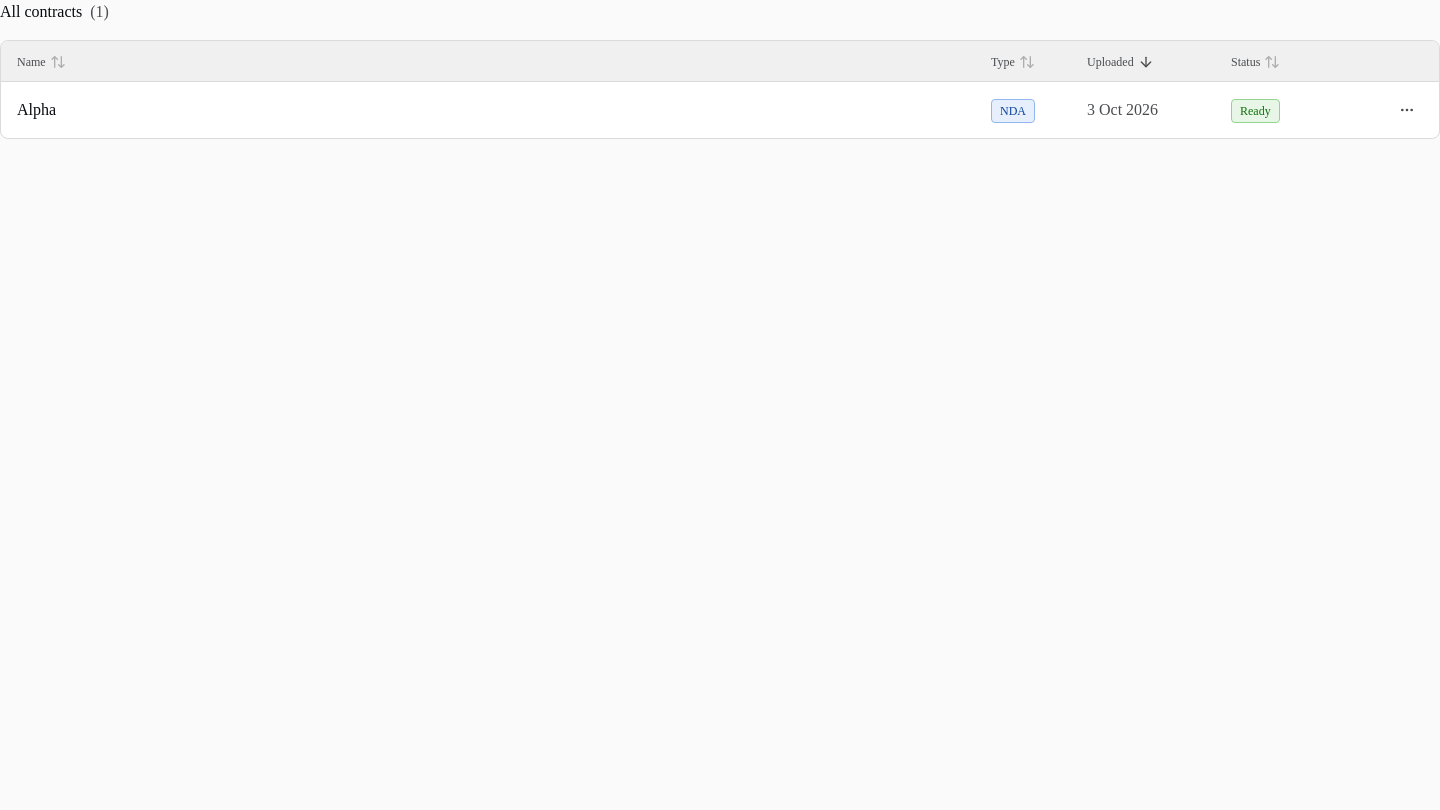
Test: ContractsTable › treats an already-deleted contract (404) as deleted
What coordinates should you click on to do the following:
click the button named "Actions for Alpha"
I would click on:
 (1407, 110)
Its box is [1391,94,1423,126].
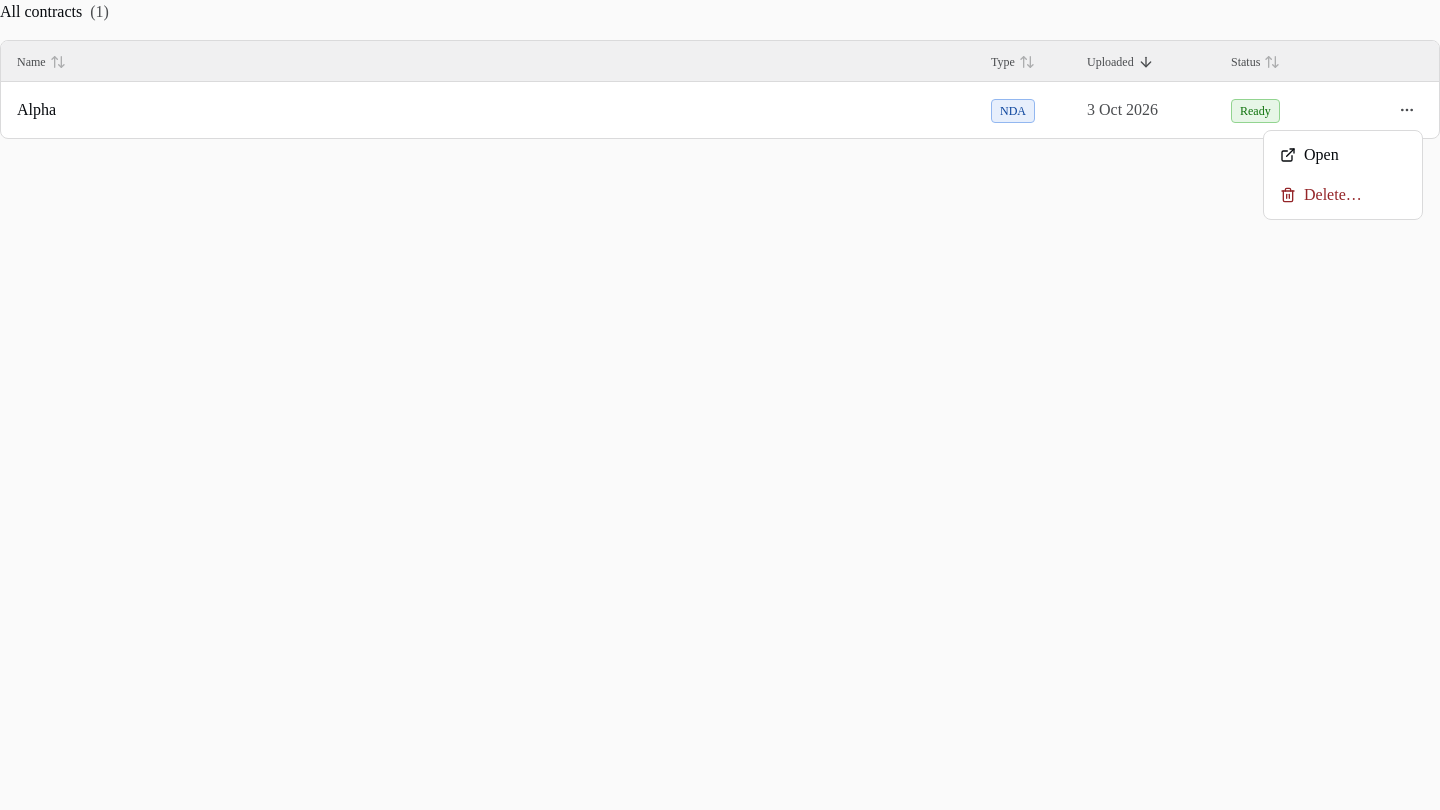
What coordinates should you click on to do the following:
click the menu item "Delete…"
I would click on:
 (1321, 194)
Its box is [1280,186,1362,203].
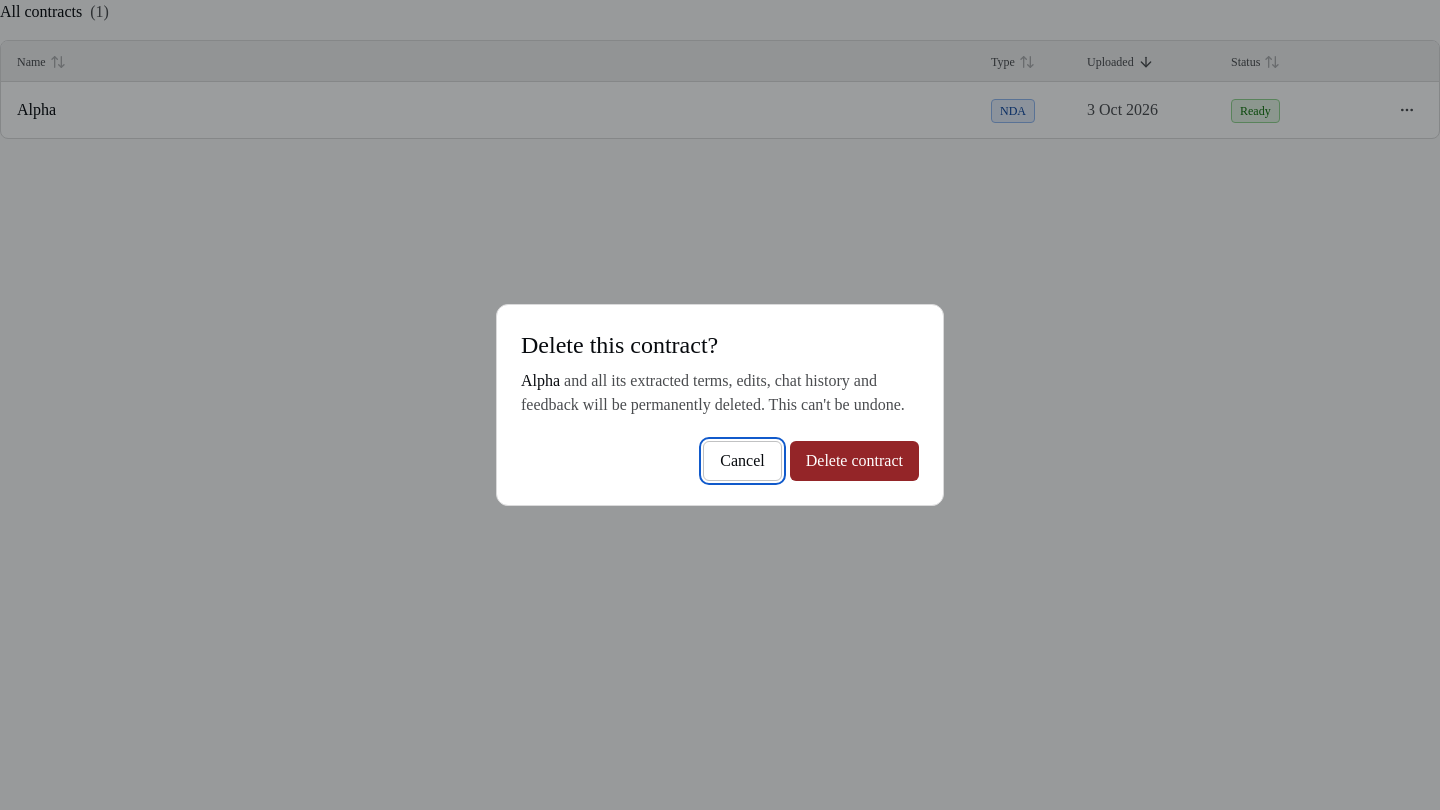
What coordinates should you click on to do the following:
click the button "Delete contract"
I would click on:
 (854, 461)
Its box is [790,441,919,481].
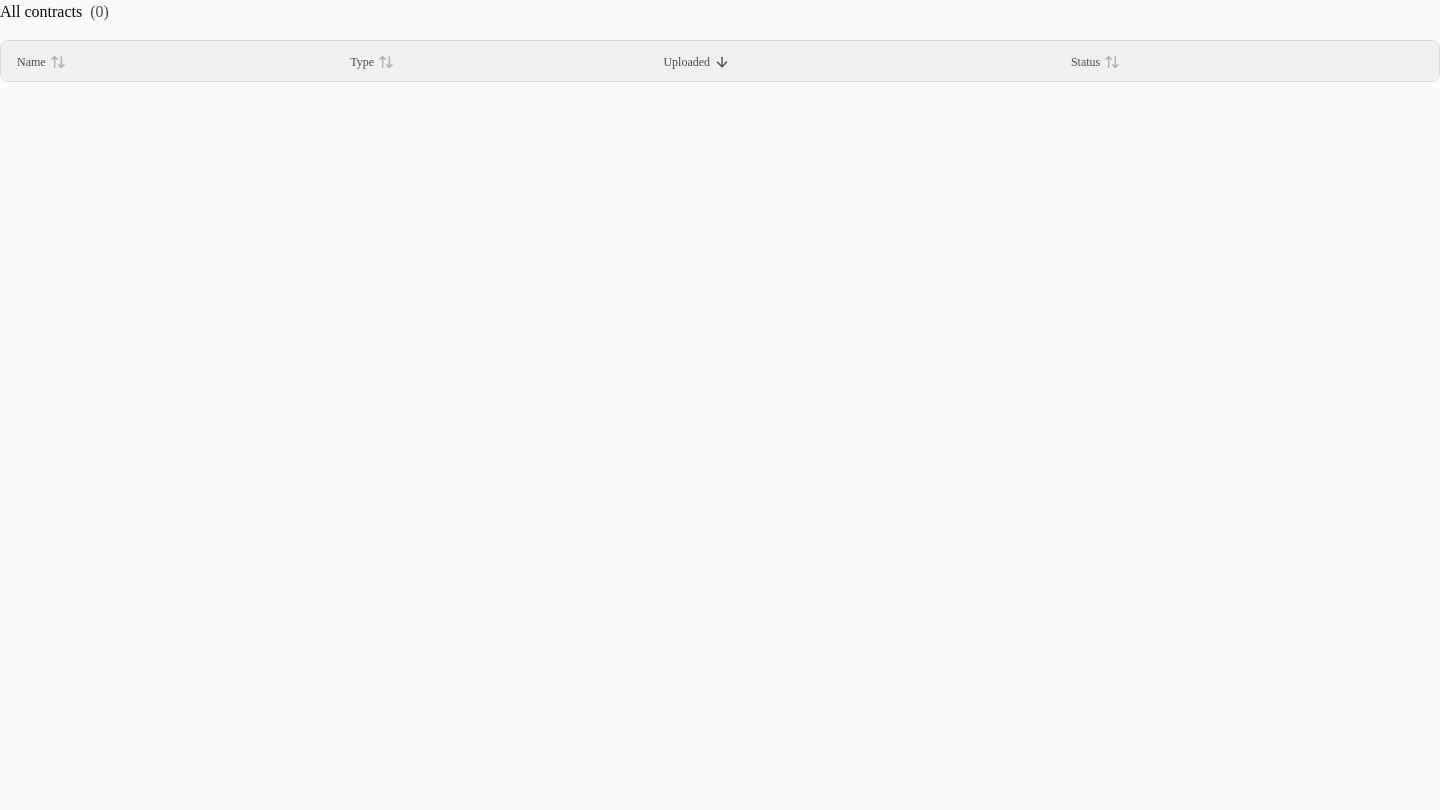
Now the dialog is gone
Now the link "Alpha" is gone
